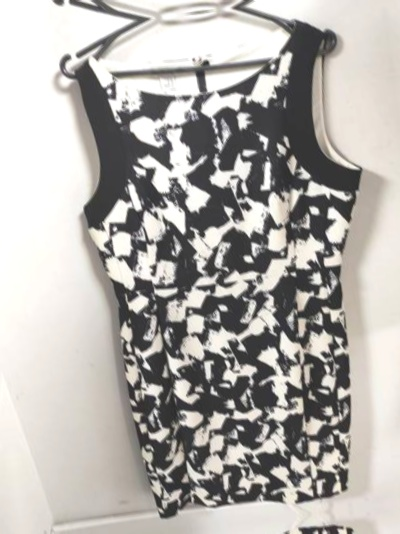Dress: (49, 0, 400, 534), (115, 504, 400, 534), (0, 0, 371, 22), (393, 0, 400, 490)
